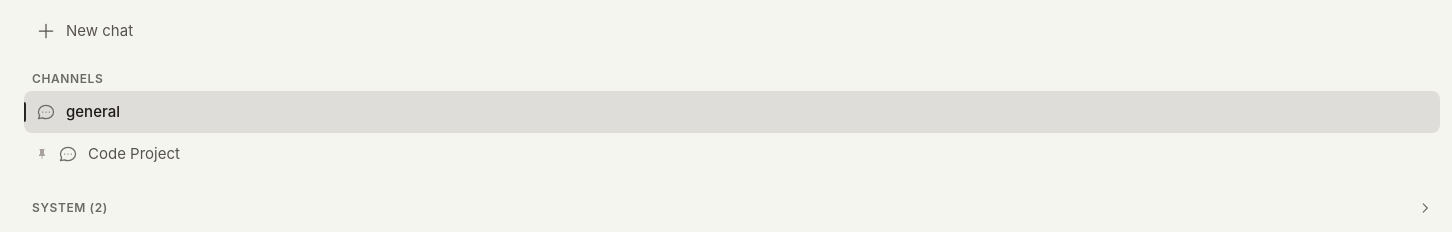
Test: rename flow › shows input when Rename is clicked from context menu
The width and height of the screenshot is (1452, 232).
Right-click the button "general" at point(93, 111), box [24,90,1440,133]
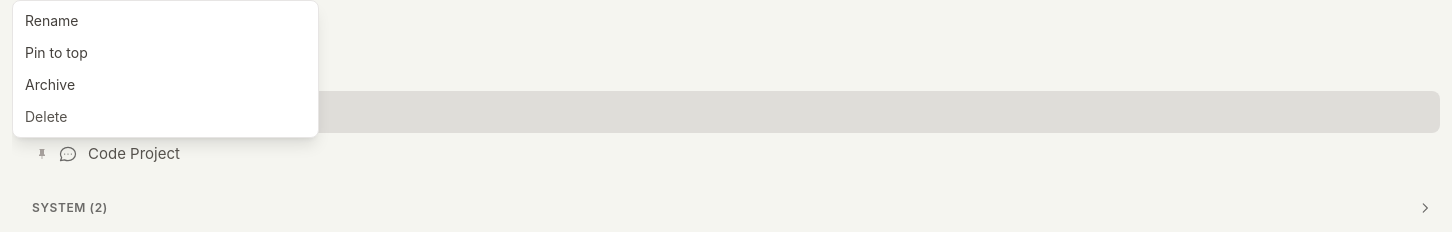
Click the button "Rename" at point(52, 20), box [13,5,318,37]
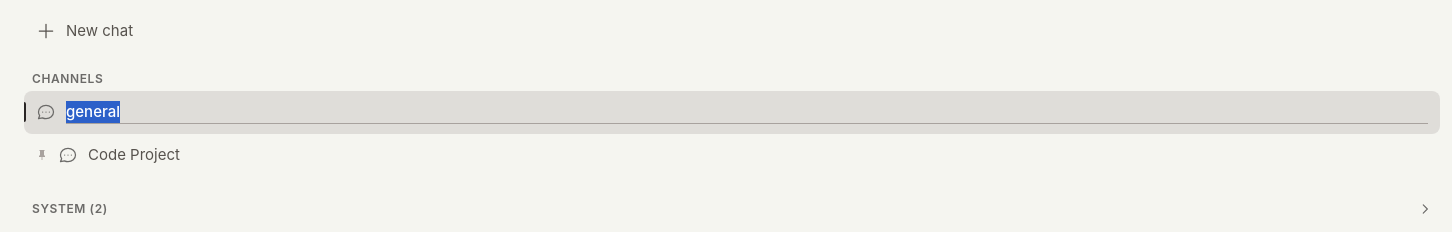
Check: the field is shown, box [66,100,1428,124]
